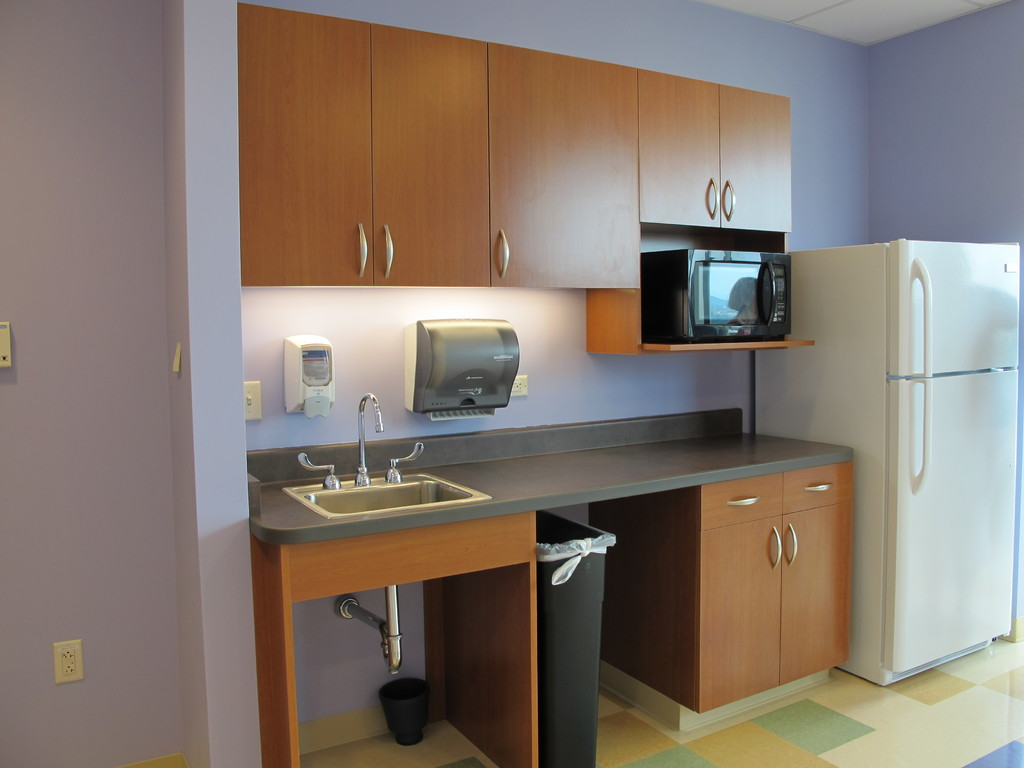cabinet door: (235, 7, 367, 286), (492, 54, 631, 285), (374, 30, 486, 279), (907, 370, 1011, 635), (894, 237, 1011, 370), (634, 63, 719, 221), (706, 521, 781, 684), (719, 86, 791, 225), (783, 516, 845, 663), (706, 470, 787, 516), (785, 465, 857, 511)
handle: (909, 260, 938, 374), (911, 379, 935, 490), (349, 221, 374, 278), (376, 218, 396, 283), (492, 222, 513, 282), (782, 511, 801, 567), (703, 176, 722, 225), (801, 475, 834, 498), (730, 487, 761, 509), (770, 528, 785, 571), (721, 179, 735, 219)
